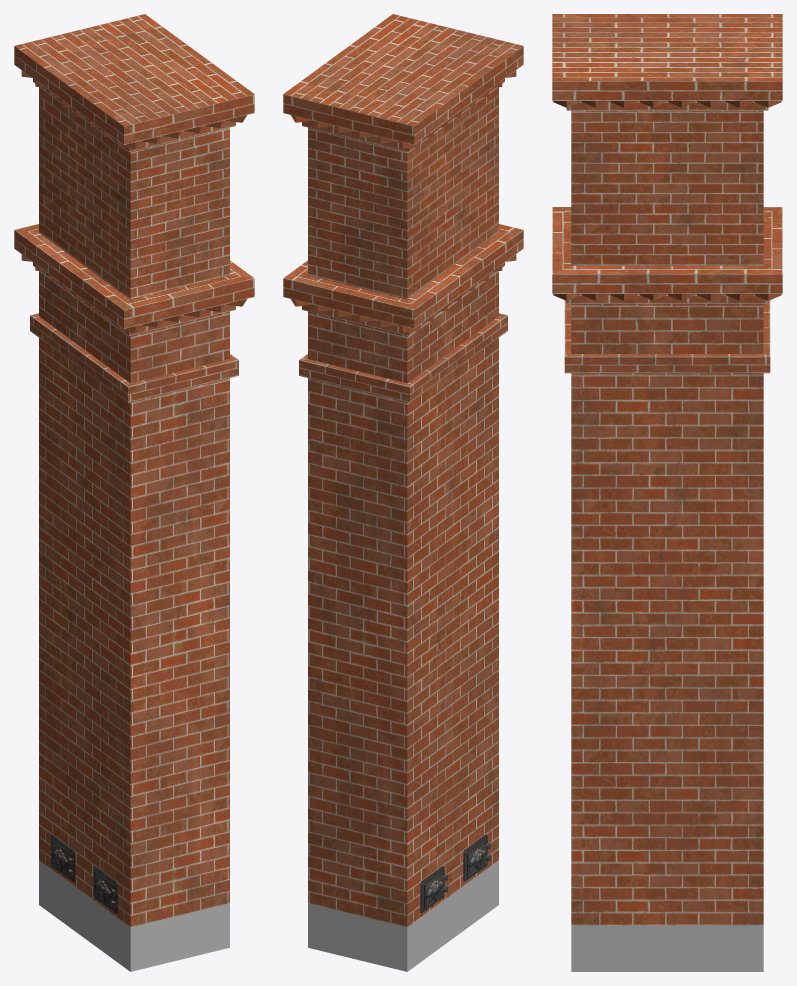
File: SM_Chimney02C.fbx
3 views of the same model, side by side, from view 1: azimuth 30°, elevation 25°; view 2: azimuth 150°, elevation 25°; view 3: azimuth 270°, elevation 25° (orthographic). The views are drawn at different scales.
Visible parts, largest first — view 1: SM_Chimney02C; view 2: SM_Chimney02C; view 3: SM_Chimney02C.
Boxes of the visible parts, left/top/right/bottom form: SM_Chimney02C: left=14, top=14, right=254, bottom=971; SM_Chimney02C: left=283, top=14, right=523, bottom=971; SM_Chimney02C: left=552, top=14, right=782, bottom=971.
Size of the model in its own units: 109 by 158 by 678.
